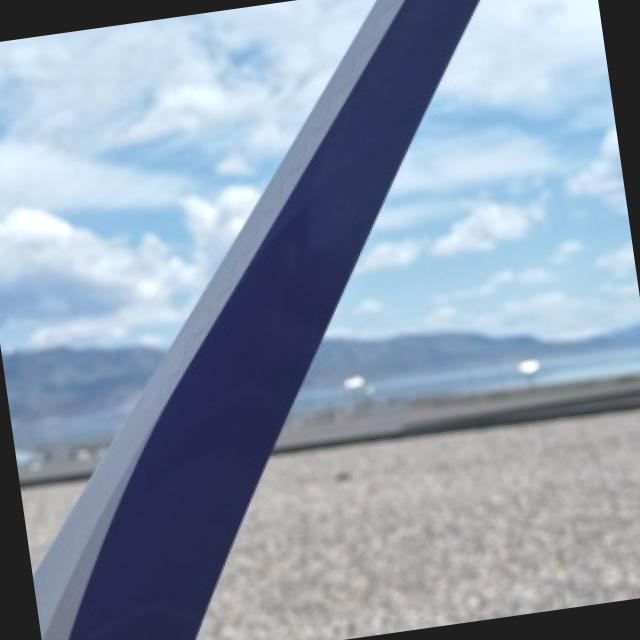healthy: (0, 0, 374, 349), (314, 327, 640, 398)
